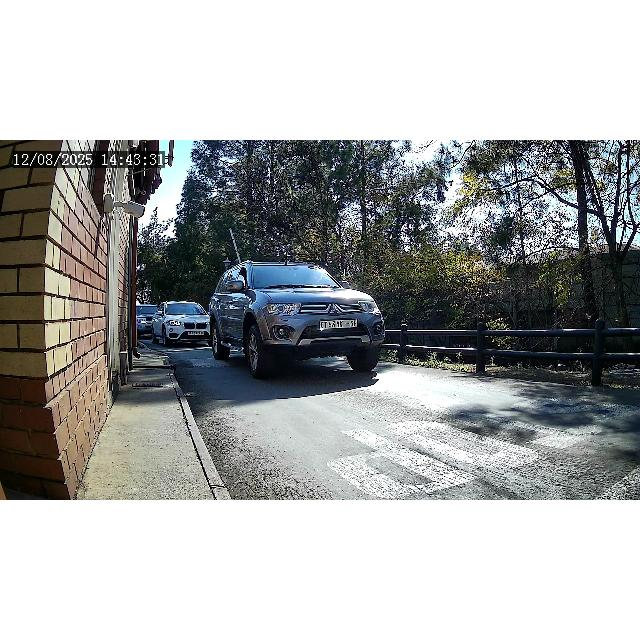car: (206, 260, 386, 380), (152, 301, 212, 349)
plate: (320, 320, 358, 330), (188, 330, 204, 336)
